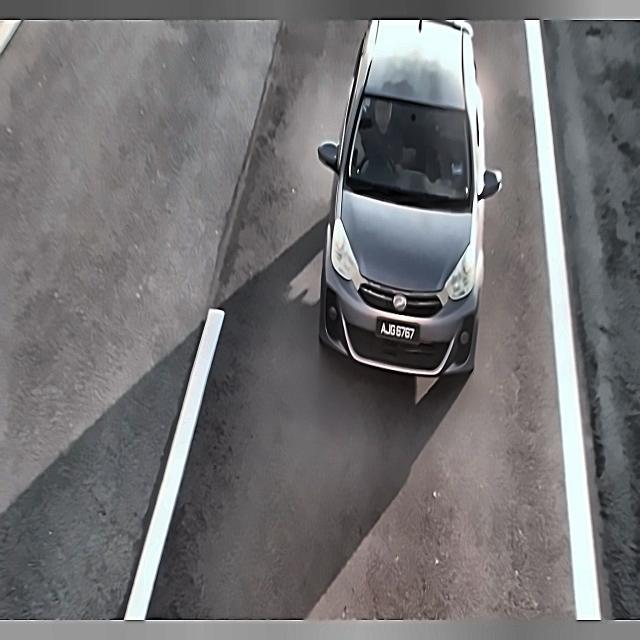car: (374, 315, 425, 350)
